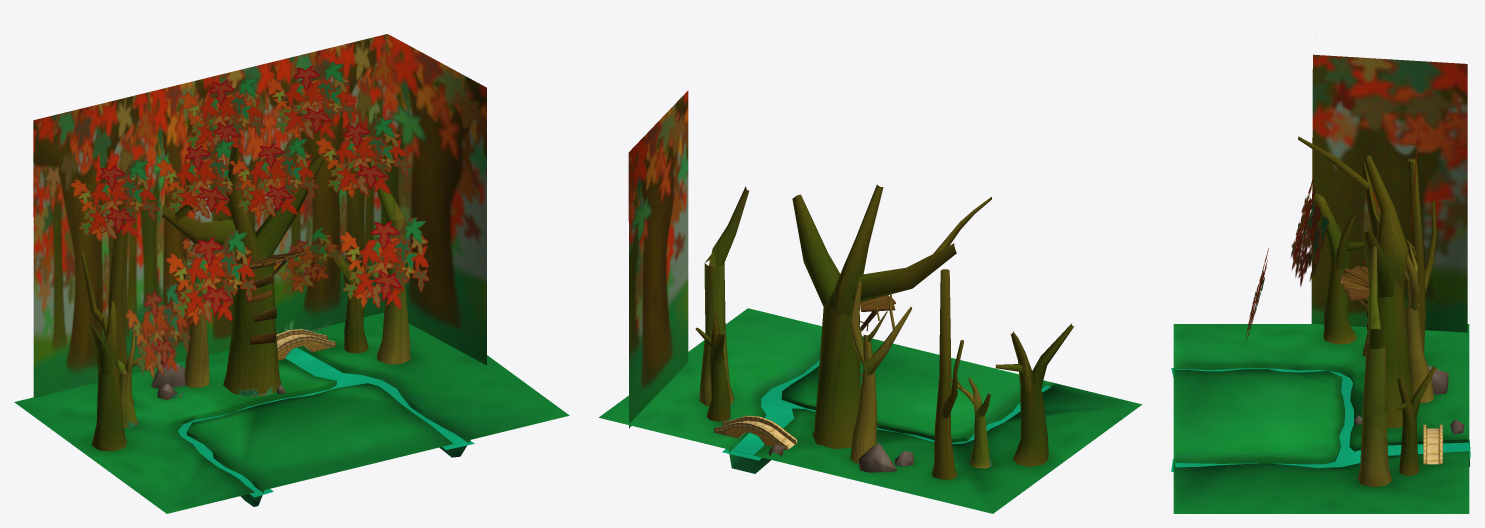
Rendered from treehouse.glb.
3 renders of one model, left to right at view 1: azimuth 30°, elevation 25°; view 2: azimuth 150°, elevation 25°; view 3: azimuth 270°, elevation 25°, orthographic. The views are drawn at different scales.
Parts seen in each view (by area): view 1: forest3, polySurface25, polySurface24, polySurface55, polySurface72, polySurface38, polySurface23, polySurface22, polySurface40, water_level, polySurface2, polySurface57 (+9 smaller); view 2: polySurface25, forest3, polySurface38, pCylinder2, polySurface2, o16, water_level, polySurface36, treeb, tree_f, polySurface67, new_brideg (+7 smaller); view 3: polySurface25, forest3, polySurface38, polySurface2, water_level, polySurface68, tree_f, pCylinder2, polySurface40, treeb, polySurface67, o16 (+10 smaller).
Part boxes in pixels (x1,y1,x2,y2): forest3: [33, 34, 486, 397]; polySurface25: [14, 312, 569, 513]; polySurface24: [229, 117, 411, 218]; polySurface55: [181, 61, 357, 153]; polySurface72: [70, 139, 248, 241]; polySurface38: [223, 144, 281, 396]; polySurface23: [340, 217, 429, 308]; polySurface22: [166, 230, 256, 324]; polySurface40: [125, 282, 190, 379]; water_level: [178, 347, 474, 497]; polySurface2: [86, 324, 126, 451]; polySurface57: [274, 225, 341, 294]; polySurface25: [599, 308, 1142, 513]; forest3: [628, 90, 688, 428]; polySurface38: [812, 184, 883, 449]; pCylinder2: [931, 269, 957, 479]; polySurface2: [1012, 323, 1074, 466]; o16: [792, 194, 840, 306]; water_level: [722, 360, 1050, 460]; polySurface36: [852, 243, 956, 302]; treeb: [850, 334, 876, 463]; tree_f: [695, 313, 730, 421]; polySurface67: [704, 263, 725, 334]; new_brideg: [714, 415, 797, 450]; polySurface25: [1173, 324, 1469, 513]; forest3: [1311, 54, 1467, 332]; polySurface38: [1363, 155, 1412, 427]; polySurface2: [1314, 193, 1356, 344]; water_level: [1171, 368, 1470, 471]; polySurface68: [1357, 411, 1391, 487]; tree_f: [1395, 366, 1436, 475]; pCylinder2: [1408, 158, 1425, 354]; polySurface40: [1290, 197, 1329, 286]; treeb: [1405, 277, 1434, 403]; polySurface67: [1362, 346, 1385, 416]; o16: [1361, 226, 1393, 297].
Size of the model in its own units: 60.59 by 49.4 by 39.86.
Materials: 22 (22 with a texture image).
